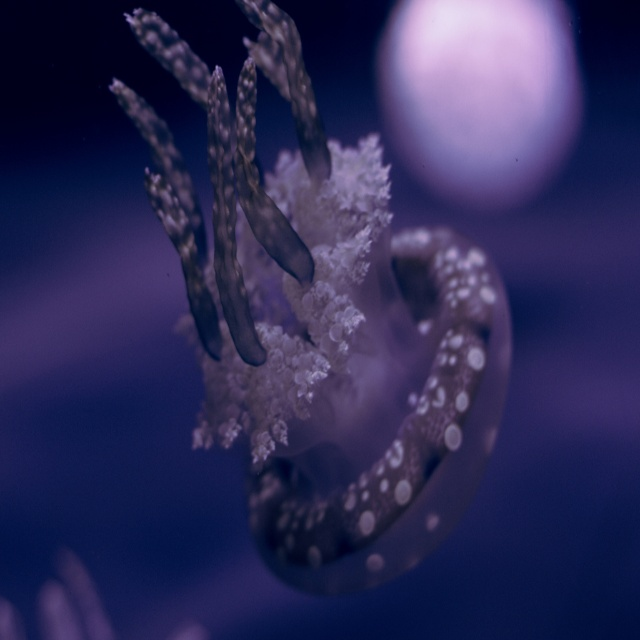Jellyfish: (114, 25, 530, 585)
